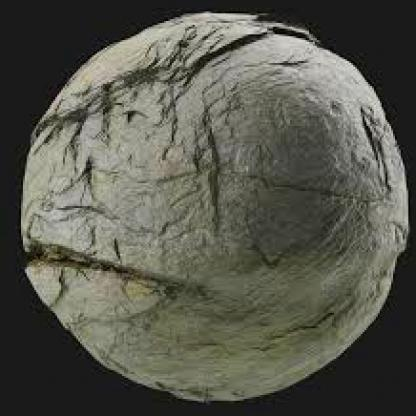Metamorphic_Quartize: (17, 7, 414, 400)
